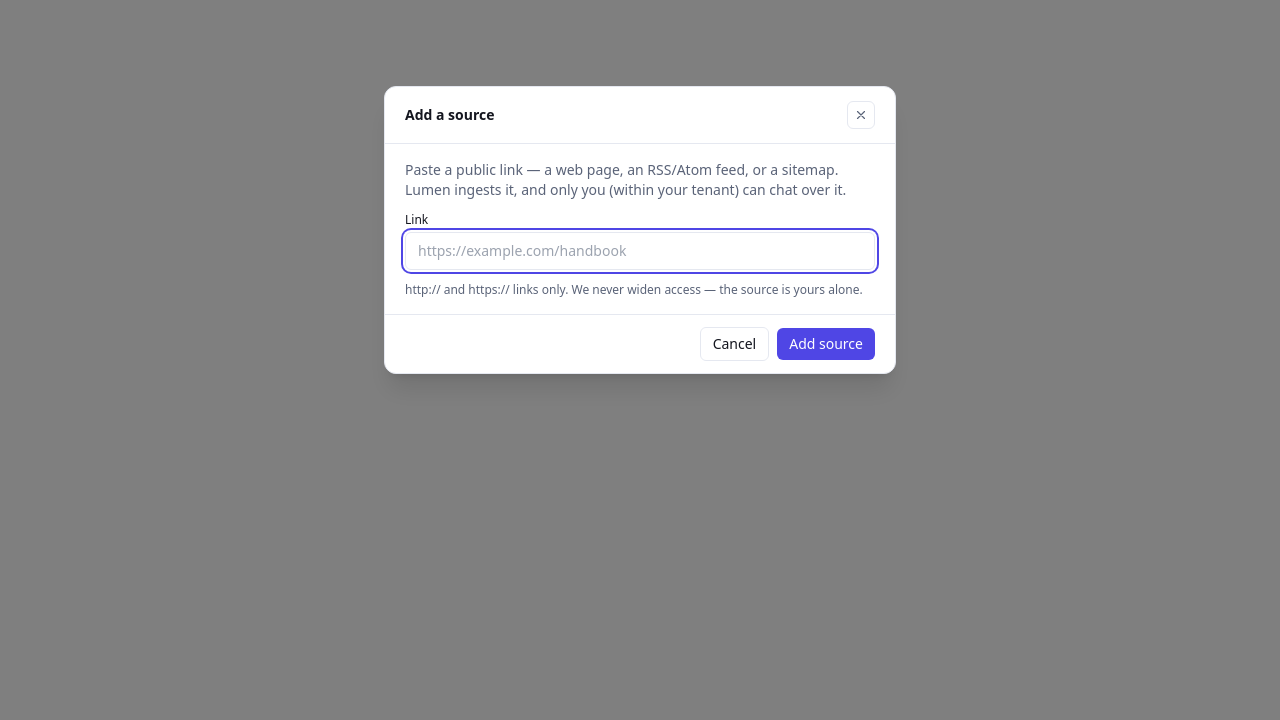
Scenario: AddSourceModal › blocks a bad URL client-side without firing a request
The image size is (1280, 720).
In the field labelled "Link": (640,251) x1=405 y1=232 x2=875 y2=270, type "not a url"
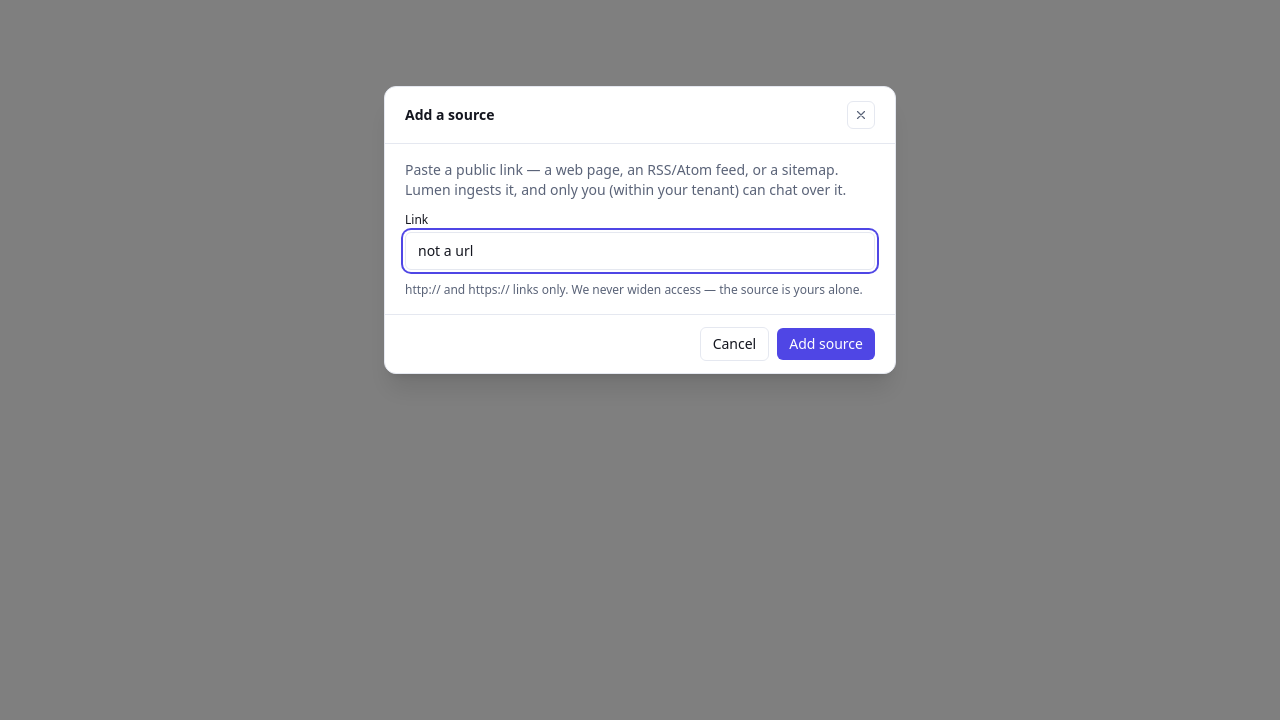
Click the button "Add source": (826,344) x1=777 y1=328 x2=875 y2=360
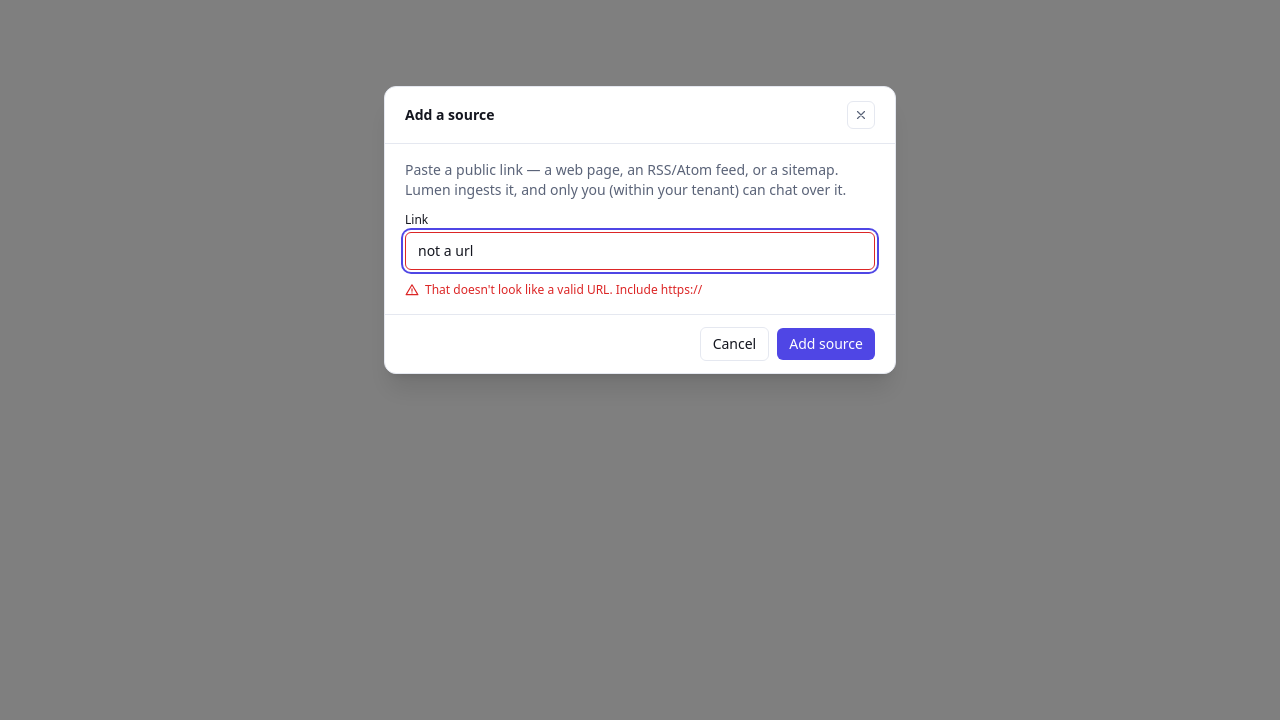
Expected: the message shows "valid URL", x1=425 y1=281 x2=702 y2=298
